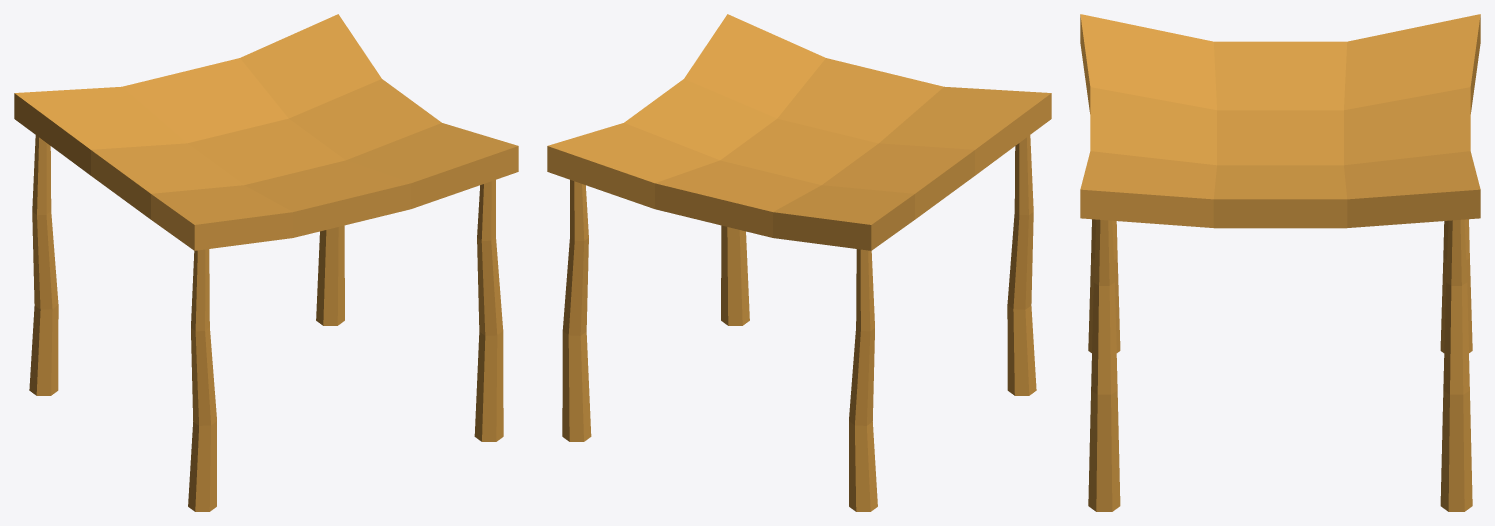
File: egypt-stand-small.fbx
The picture shows the model from 3 angles, left to right: view 1: azimuth 30°, elevation 25°; view 2: azimuth 150°, elevation 25°; view 3: azimuth 270°, elevation 25°; orthographic projection. The views are drawn at different scales.
Visible parts, largest first — view 1: egypt-stand-small; view 2: egypt-stand-small; view 3: egypt-stand-small.
Boxes of the visible parts, x1=… form: egypt-stand-small: x1=14, y1=14, x2=518, y2=511; egypt-stand-small: x1=547, y1=14, x2=1051, y2=511; egypt-stand-small: x1=1080, y1=14, x2=1480, y2=511.
Bounding box in the file's own units: 2.49 × 2.16 × 2.4.
